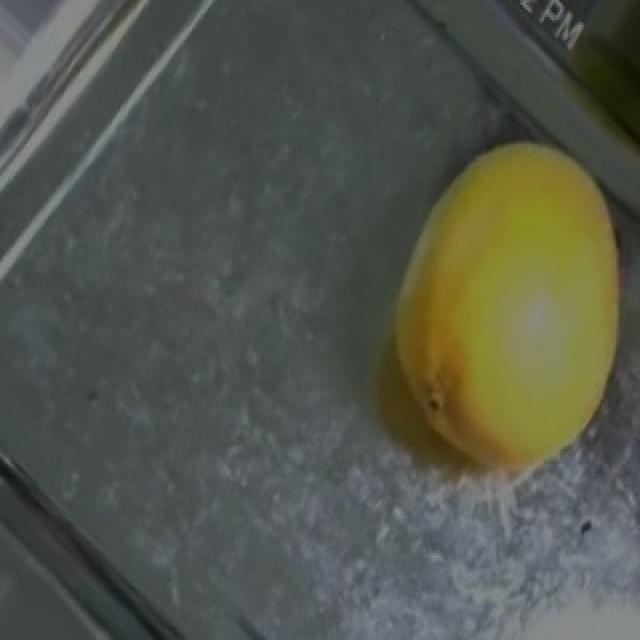fruit: (380, 80, 640, 487)
